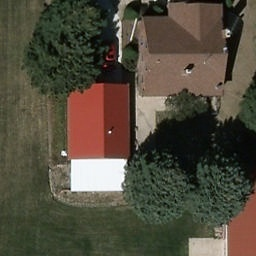car: (98, 39, 119, 74)
